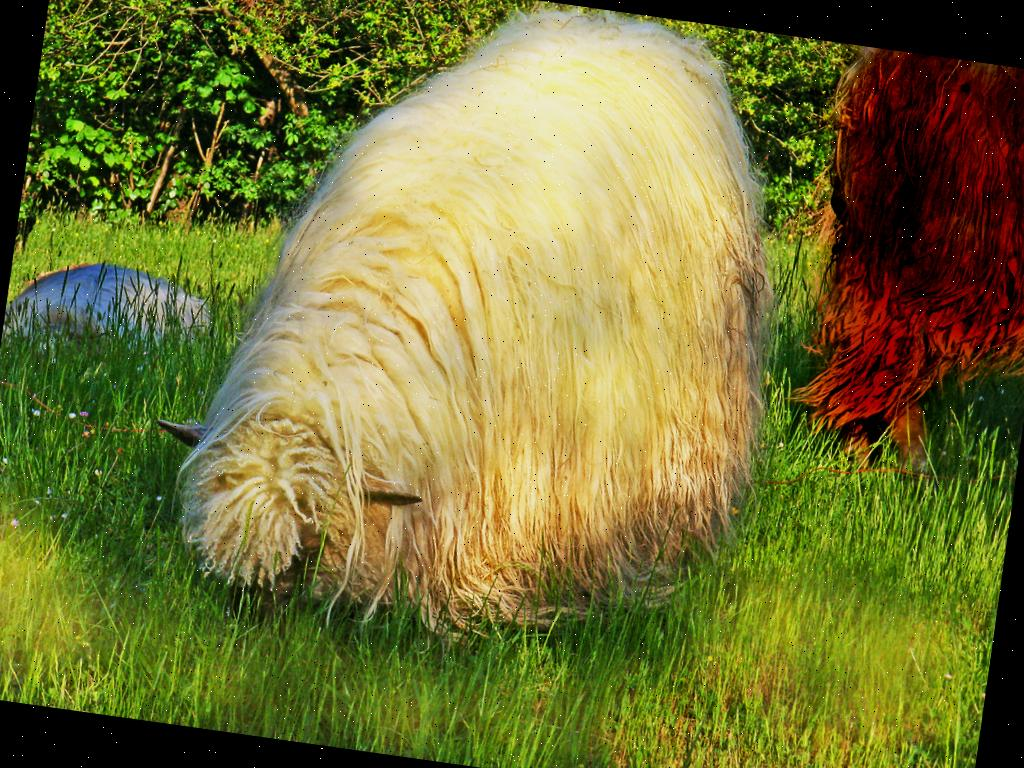Sheep: (125, 0, 830, 679)
